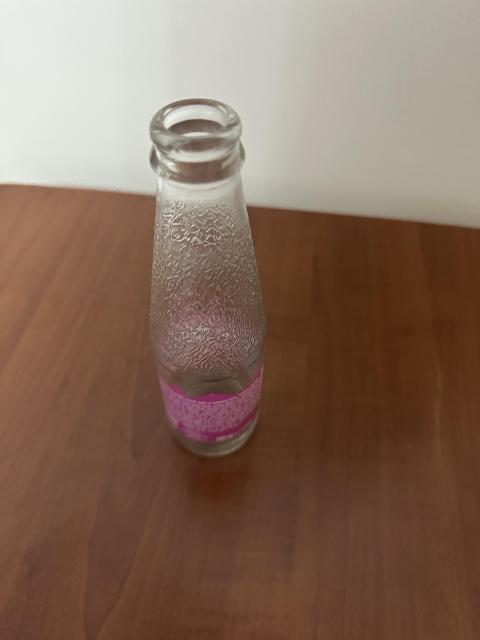Cam: (148, 101, 267, 467)
Plastik: (157, 369, 277, 442)
